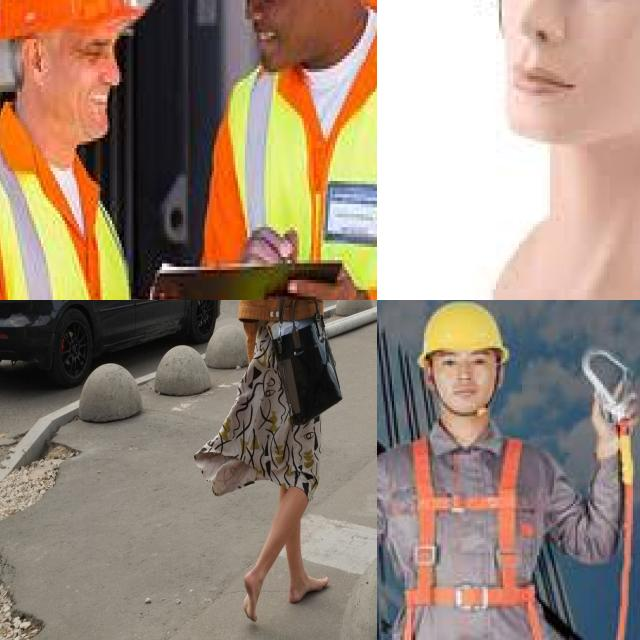Barefoots: (288, 576, 328, 603), (244, 572, 257, 622)
Harness: (387, 427, 560, 640)
No_Ear-Protection: (24, 38, 51, 90)
No_Glasses: (72, 35, 116, 68)
face_nomask: (248, 0, 315, 73), (51, 67, 120, 137)
hand_noglove: (276, 270, 369, 300), (243, 228, 297, 264)
head_helmet: (0, 0, 144, 39)
